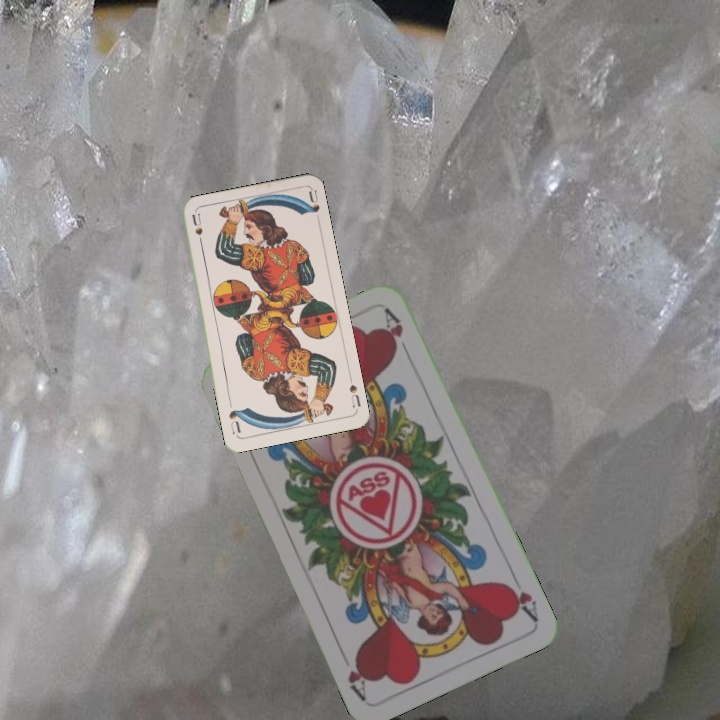HA: (501, 568, 541, 624)
SU: (188, 210, 206, 251), (345, 380, 363, 410)
